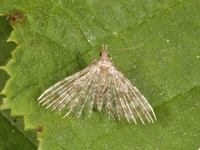Alucitidae: (38, 42, 163, 127)
moth: (36, 40, 161, 125)
